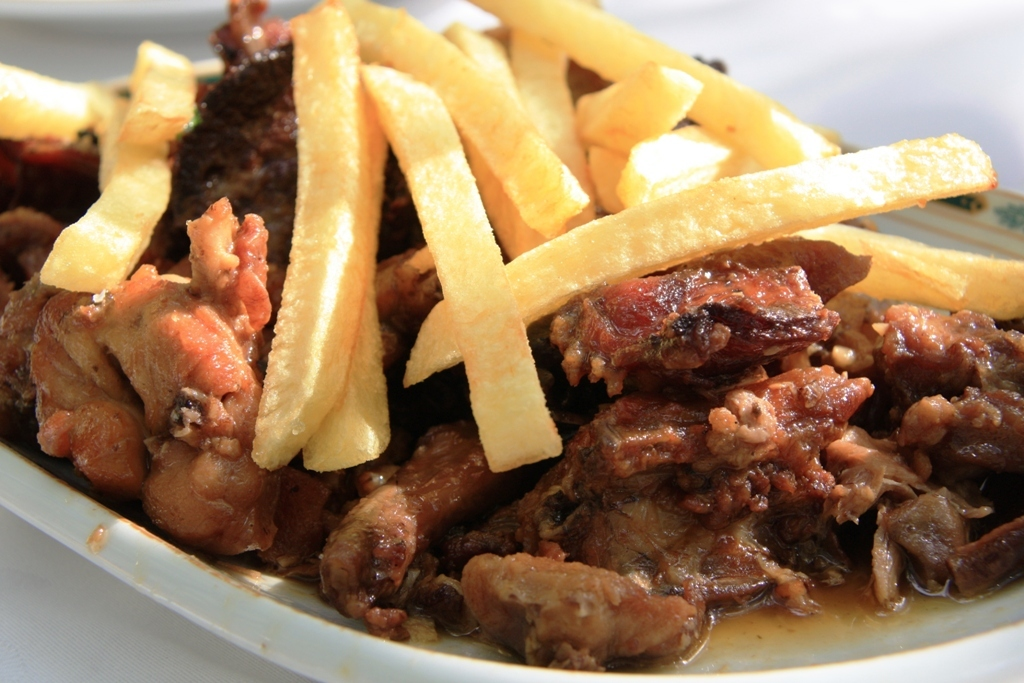French fries: (0, 0, 1022, 464)
